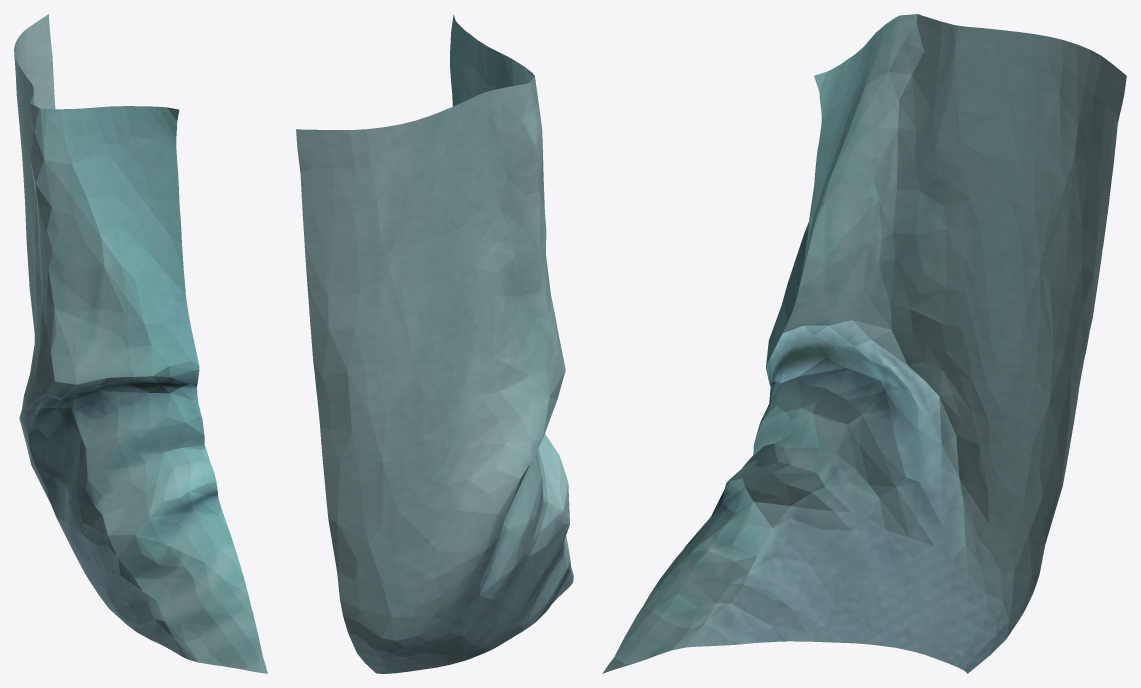
The picture shows the model from 3 angles, left to right: view 1: azimuth 30°, elevation 25°; view 2: azimuth 150°, elevation 25°; view 3: azimuth 270°, elevation 25°; orthographic projection. The views are drawn at different scales.
Size of the model in its own units: 40.52 by 171 by 136.
1 material, 1 textured.
